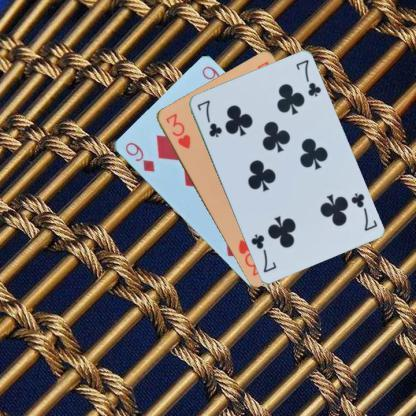3h: (162, 110, 192, 150)
7c: (348, 190, 378, 232), (194, 97, 223, 139)
9d: (122, 139, 156, 174)
